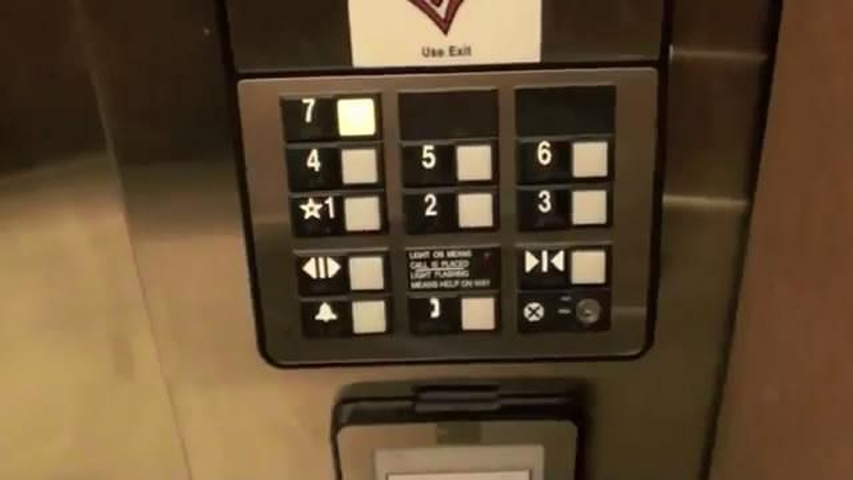2: (397, 181, 502, 234)
3: (515, 184, 618, 232)
4: (283, 137, 387, 191)
5: (397, 135, 501, 189)
6: (515, 134, 617, 185)
7: (278, 88, 383, 144)
alarm: (297, 292, 400, 341)
call: (405, 288, 503, 338)
close: (512, 239, 614, 291)
open: (290, 244, 396, 300)
s1: (284, 186, 388, 239)
stop: (513, 285, 614, 335)
